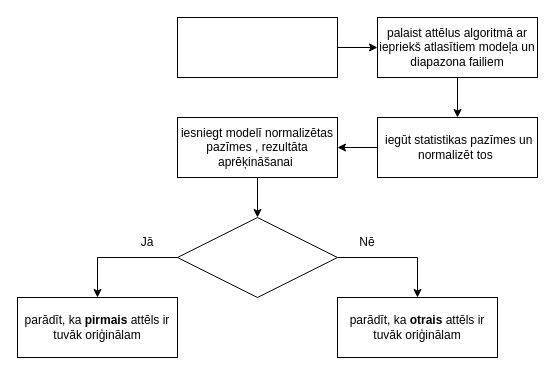
Image size: 555x375. Some labels were removed from this diagram. Here are the shapes that lost their labels. From the top down, the centre of each, then its label:
[257,47]: Ielādēt attēlus ar palielinātu kvalitāti
[257,257]: pirmajam attēlam ir mazāks rezultāts
